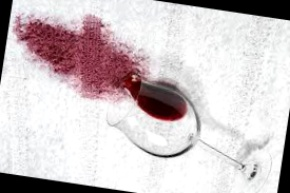wine: (15, 5, 153, 107)
